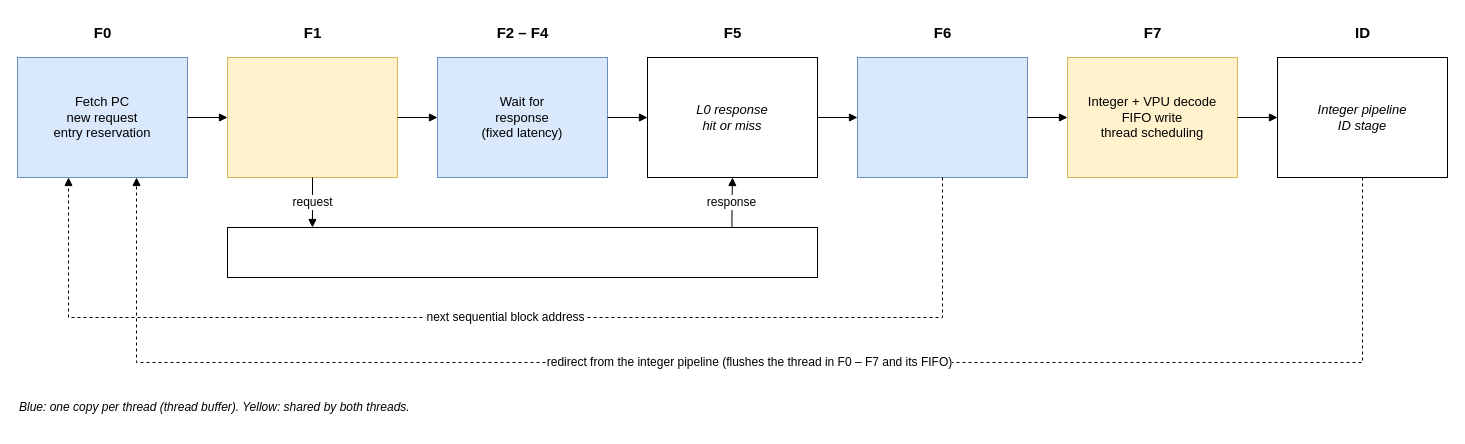
Some shapes in this 1465 by 444 pixel diagram are drawn without their labels. Each missing label, with the centre of its shape:
"Block write instruction read RVC expansion" goes at pixel 942 117.
"Neighborhood L0 micro-cache: lookup, miss, fill" goes at pixel 522 252.
"Request register (wait for acceptance)" goes at pixel 312 117.
